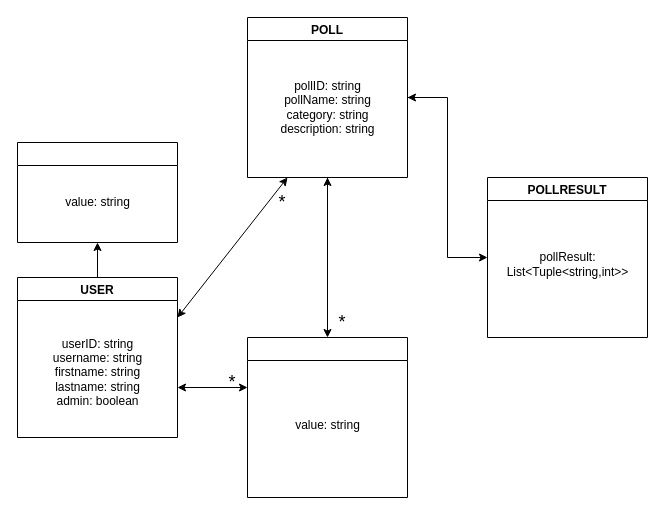
The diagram is 665 pixels wide and 515 high, and some of its shapes have lost their labels. The box of each missing label's shape, as (x1, y1, x2, y2) in pixels:
PASSWORD: (16, 142, 178, 242)
VOTE: (246, 336, 408, 498)
